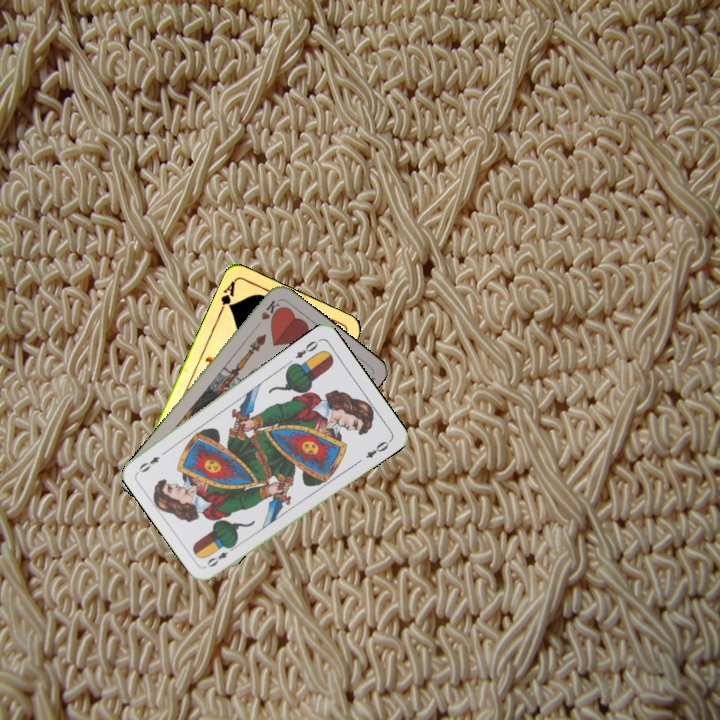EO: (203, 541, 238, 570), (291, 337, 321, 361)
GA: (215, 277, 238, 316)
HK: (251, 296, 282, 332)
